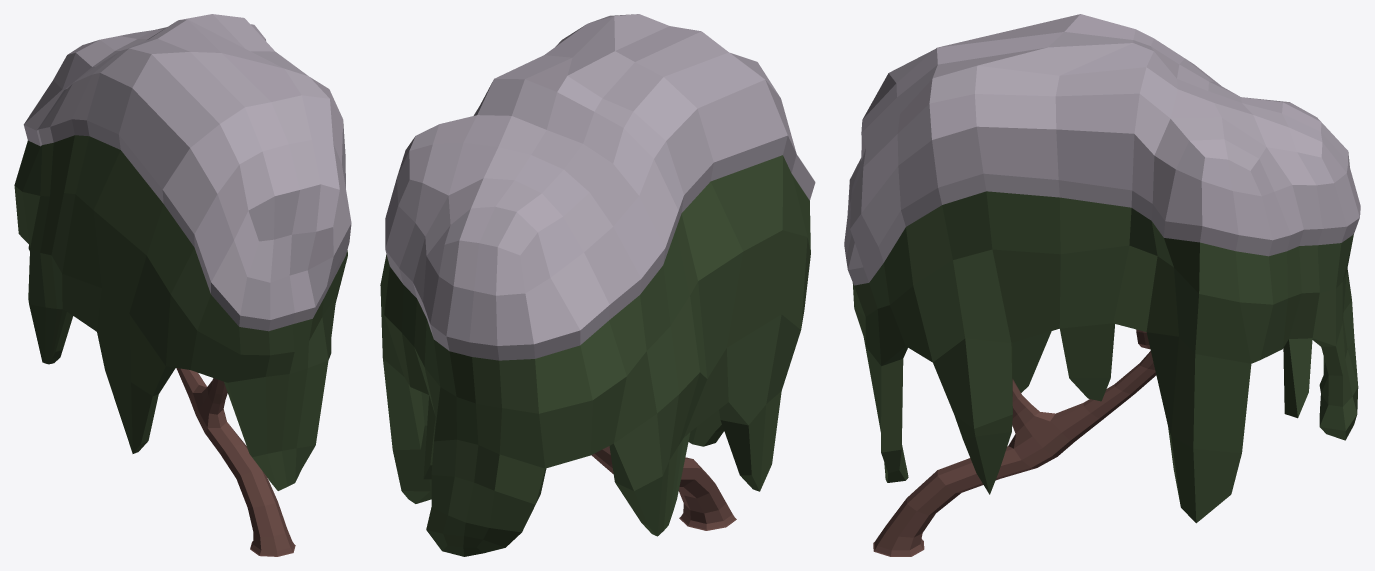
Rendered from Willow_Snow_2.glb.
3 renders of one model, left to right at view 1: azimuth 30°, elevation 25°; view 2: azimuth 150°, elevation 25°; view 3: azimuth 270°, elevation 25°, orthographic. The views are drawn at different scales.
Visible parts, largest first — view 1: Willow_Snow_2_Cube.144; view 2: Willow_Snow_2_Cube.144; view 3: Willow_Snow_2_Cube.144.
Boxes of the visible parts, box(x1,y1,x2,y2) form: Willow_Snow_2_Cube.144: box(14, 14, 351, 556); Willow_Snow_2_Cube.144: box(380, 14, 815, 556); Willow_Snow_2_Cube.144: box(844, 14, 1360, 556).
Bounding box in the file's own units: 1.96 × 3.46 × 3.16.
